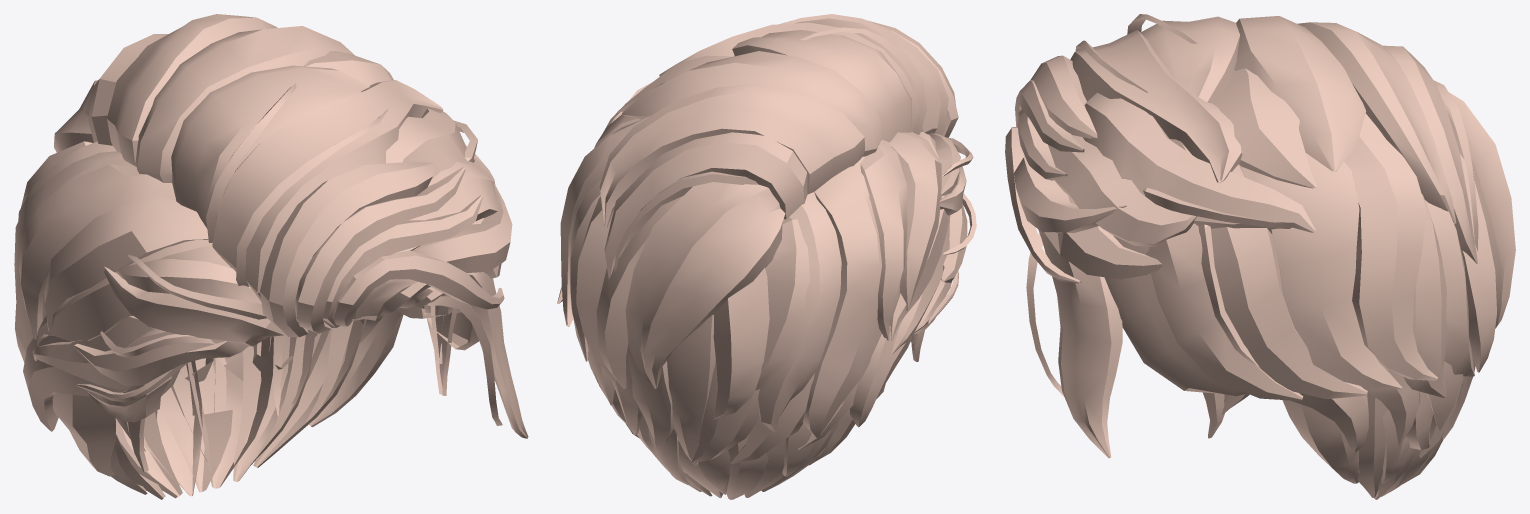
File: Hair_18.fbx
3 renders of one model, left to right at view 1: azimuth 30°, elevation 25°; view 2: azimuth 150°, elevation 25°; view 3: azimuth 270°, elevation 25°, orthographic. The views are drawn at different scales.
Visible parts, largest first — view 1: Hair_18; view 2: Hair_18; view 3: Hair_18.
Boxes of the visible parts, x1,y1,x2,y2 form: Hair_18: (14,14,528,499); Hair_18: (557,14,976,499); Hair_18: (1005,14,1515,499).
Size of the model in its own units: 2.11 by 2.49 by 2.55.
